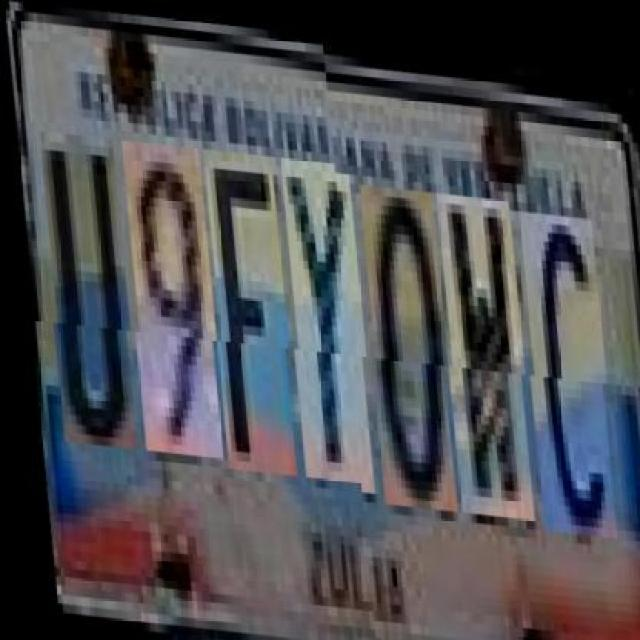9: (118, 146, 220, 465)
c: (516, 200, 612, 526)
f: (201, 153, 293, 479)
o: (356, 177, 453, 503)
u: (37, 139, 134, 456)
w: (433, 183, 530, 509)
y: (278, 161, 371, 487)
